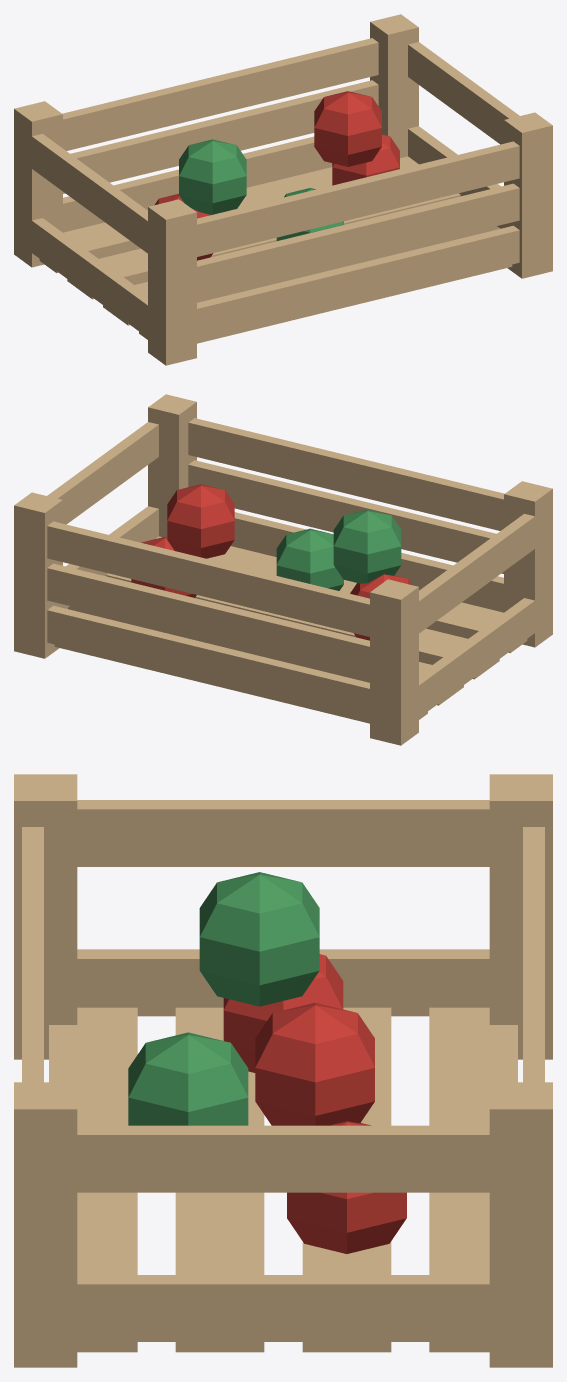
The model's file is FN_Crate_Fruit.obj.
3 views of the same model, one above another, from view 1: azimuth 30°, elevation 25°; view 2: azimuth 150°, elevation 25°; view 3: azimuth 270°, elevation 25° (orthographic). The views are drawn at different scales.
Parts seen in each view (by area): view 1: FN_Crate_Fruit; view 2: FN_Crate_Fruit; view 3: FN_Crate_Fruit.
Part boxes in pixels (box(x1,y1,x2,y2)): FN_Crate_Fruit: box(14, 14, 552, 365); FN_Crate_Fruit: box(14, 394, 552, 745); FN_Crate_Fruit: box(14, 774, 552, 1367).
Bounding box in the file's own units: 0.5 × 0.18 × 0.34.
1 material, 1 textured.
